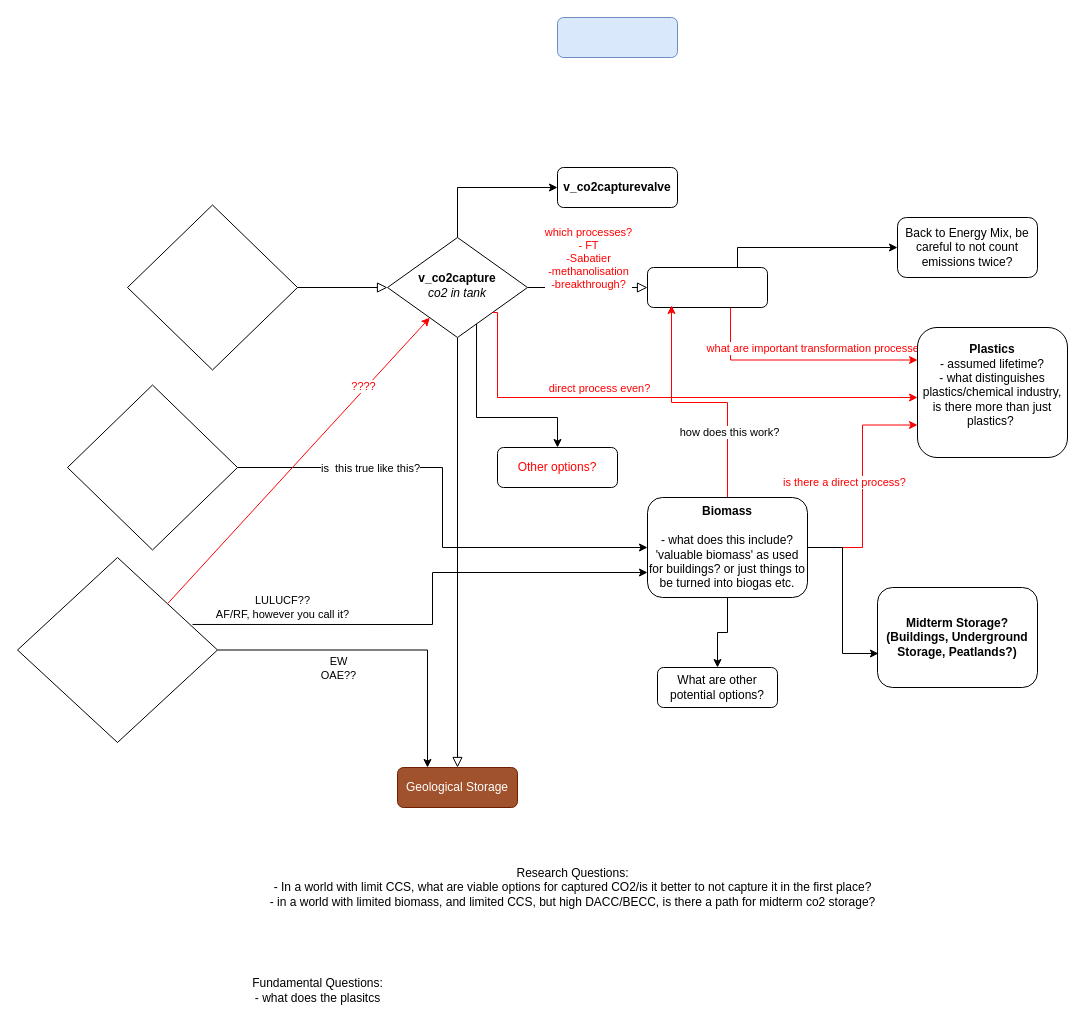
Image size: 1085x1028. Some labels were removed from this diagram. The shapes that lost their labels are listed below. From the top down, each one's centre as x and y in pixels, then its label:
At [617,37]: "Atmosphere".
At [212,287]: "Multiple Technological Capture pathways".
At [707,287]: "CCU/Synfuels".
At [152,467]: "Multiple Natural Capture pathways".
At [117,649]: "Multiple Naturally Enhanced Capture pathways".
